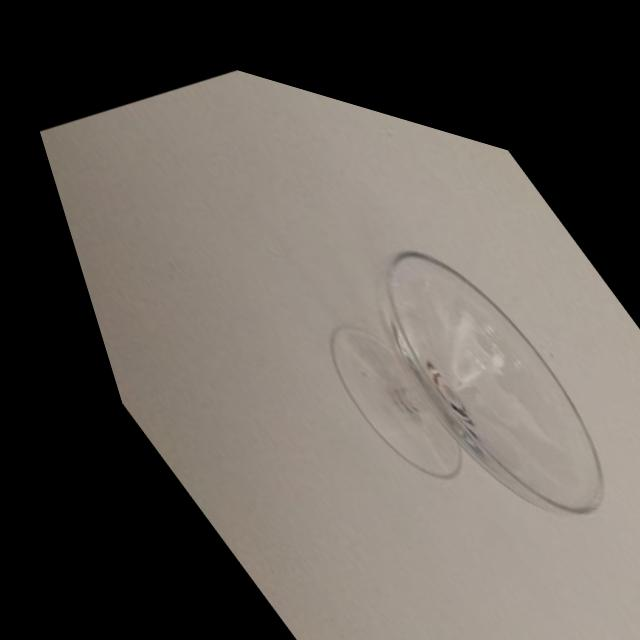glass: (156, 97, 640, 635)
